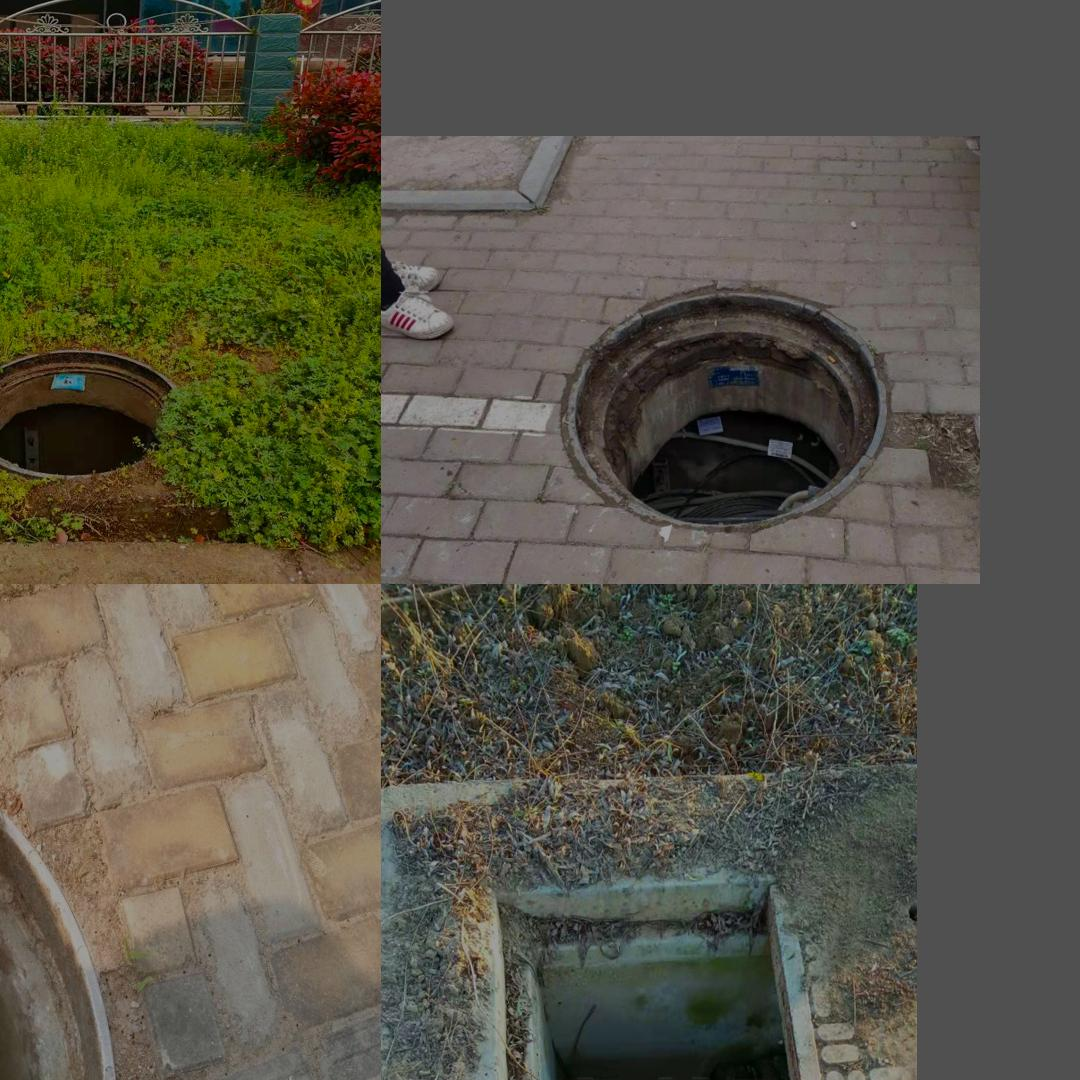lose: (554, 270, 899, 533), (474, 867, 854, 1080), (0, 737, 118, 1080), (0, 346, 187, 479)
